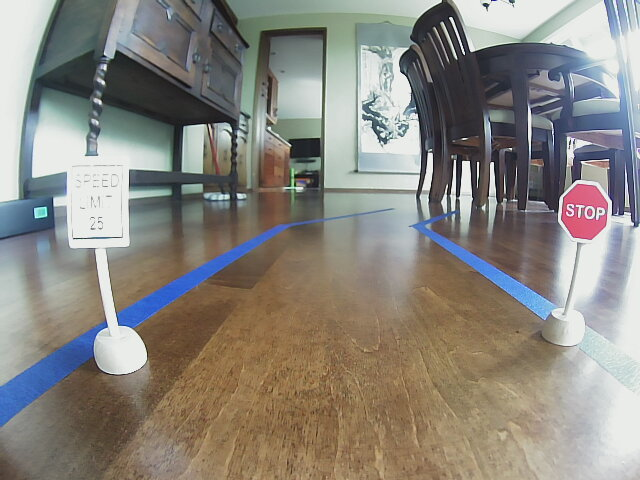SpeedLimit25: (67, 166, 123, 242)
StopSign: (557, 182, 613, 243)
